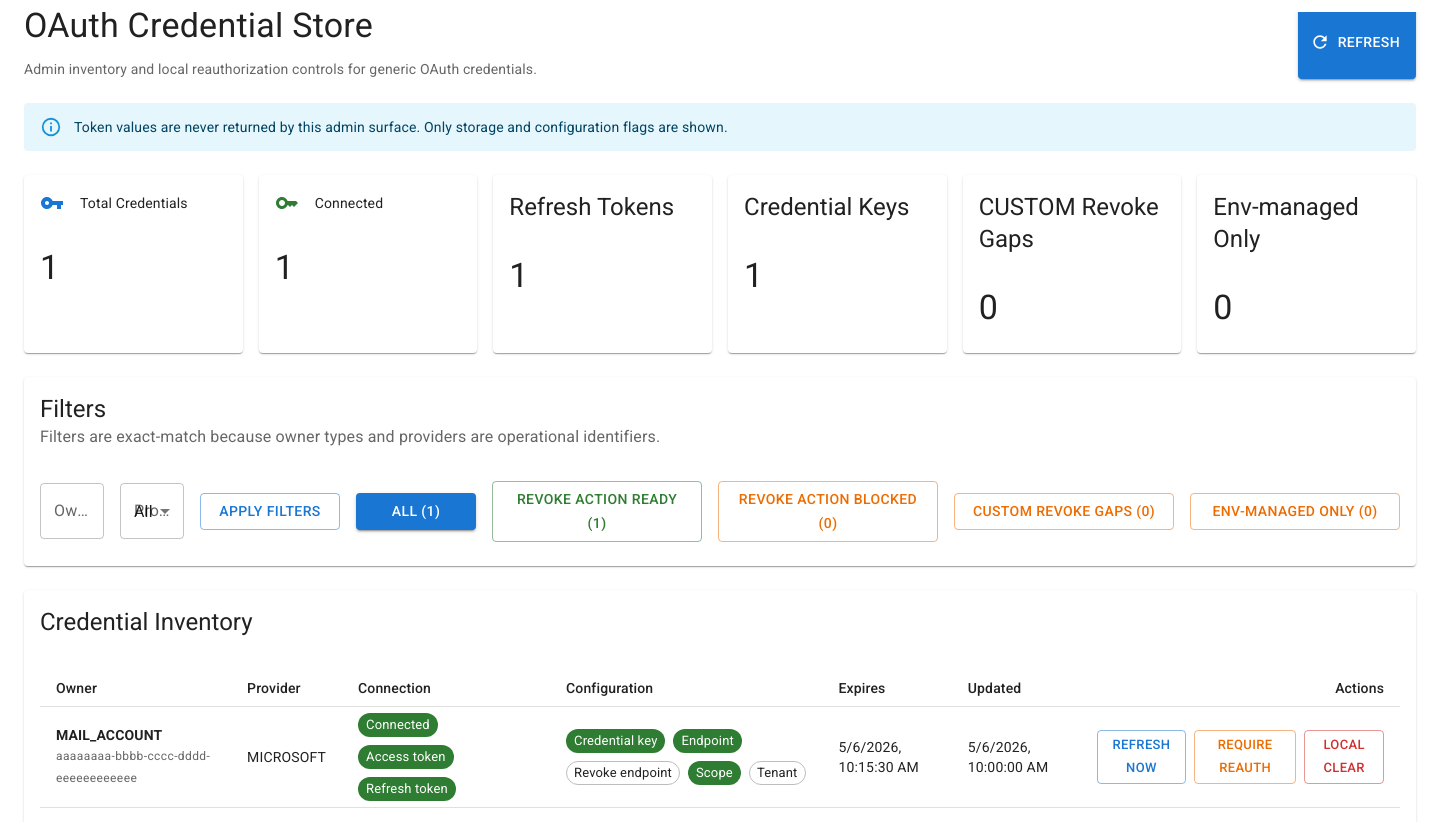
Test: local-clears Microsoft OAuth tokens with Entra caveat in confirmation
(page scrolled)
Click the button "Local Clear" at (1344, 757), box [1304,730,1384,784]
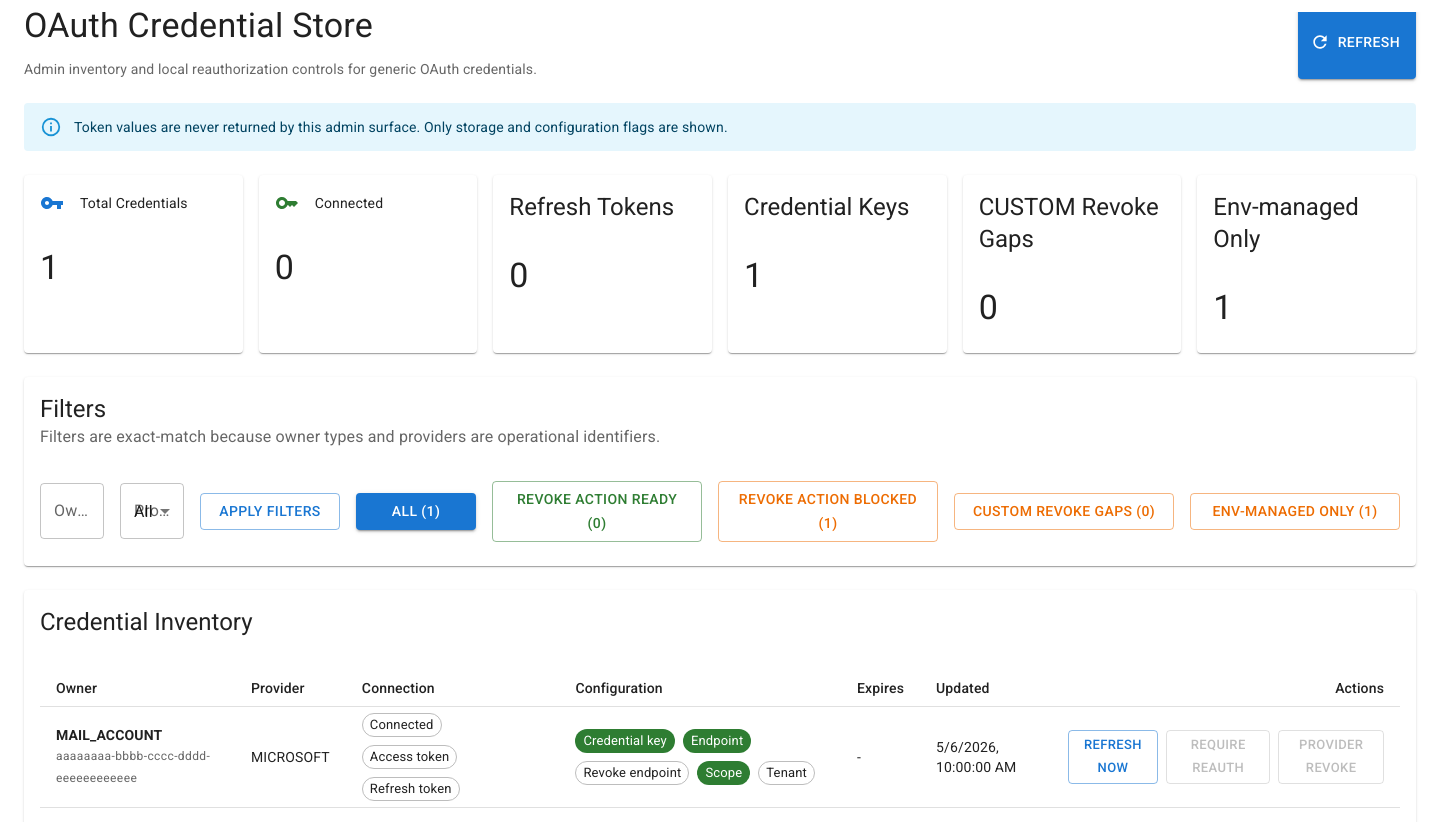
Expected: the button "Provider Revoke" is disabled, [1278,730,1384,784]
